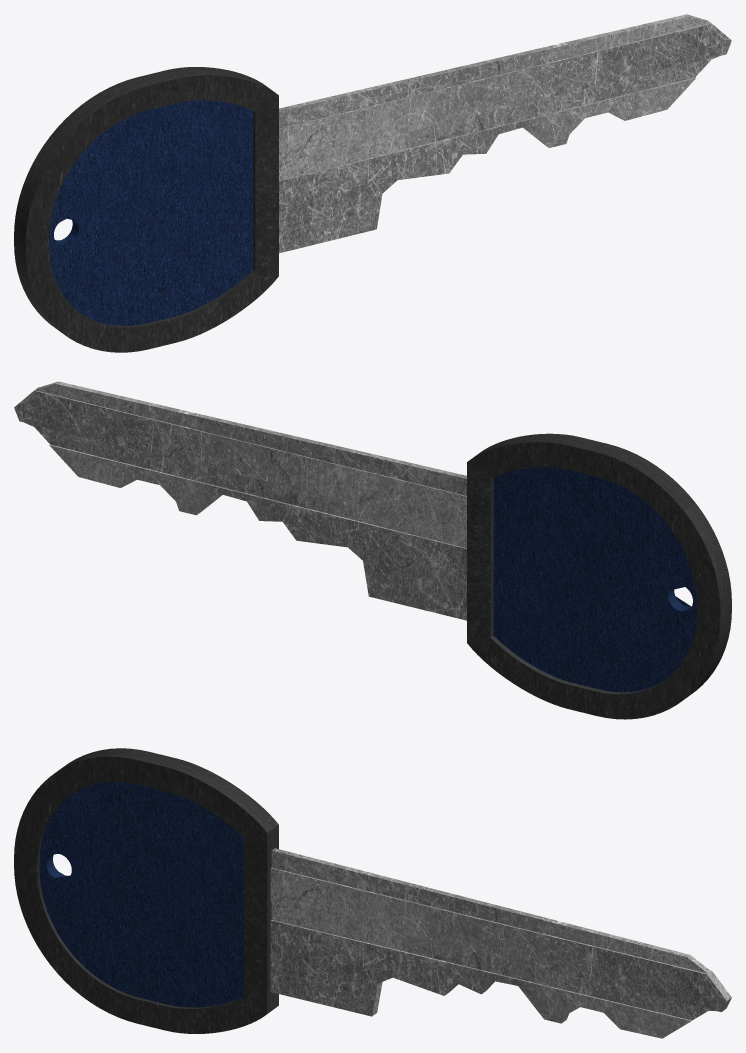
Rendered from Key.fbx.
3 views of the same model, one above another, from view 1: azimuth 30°, elevation 25°; view 2: azimuth 150°, elevation 25°; view 3: azimuth 330°, elevation 25° (orthographic).
Parts seen in each view (by area): view 1: Plane, Cube, Cube.001; view 2: Plane, Cube, Cube.001; view 3: Plane, Cube, Cube.001.
Boxes of the visible parts, bbox=[...] form: Plane: bbox=[279, 14, 731, 253]; Cube: bbox=[49, 100, 253, 325]; Cube.001: bbox=[14, 67, 278, 352]; Plane: bbox=[14, 381, 466, 620]; Cube: bbox=[493, 467, 696, 692]; Cube.001: bbox=[467, 433, 731, 719]; Plane: bbox=[270, 848, 731, 1038]; Cube: bbox=[39, 781, 243, 1007]; Cube.001: bbox=[14, 748, 278, 1033].
Size of the model in its own units: 560 by 199 by 15.79.
Materials: 3 (3 with a texture image).
